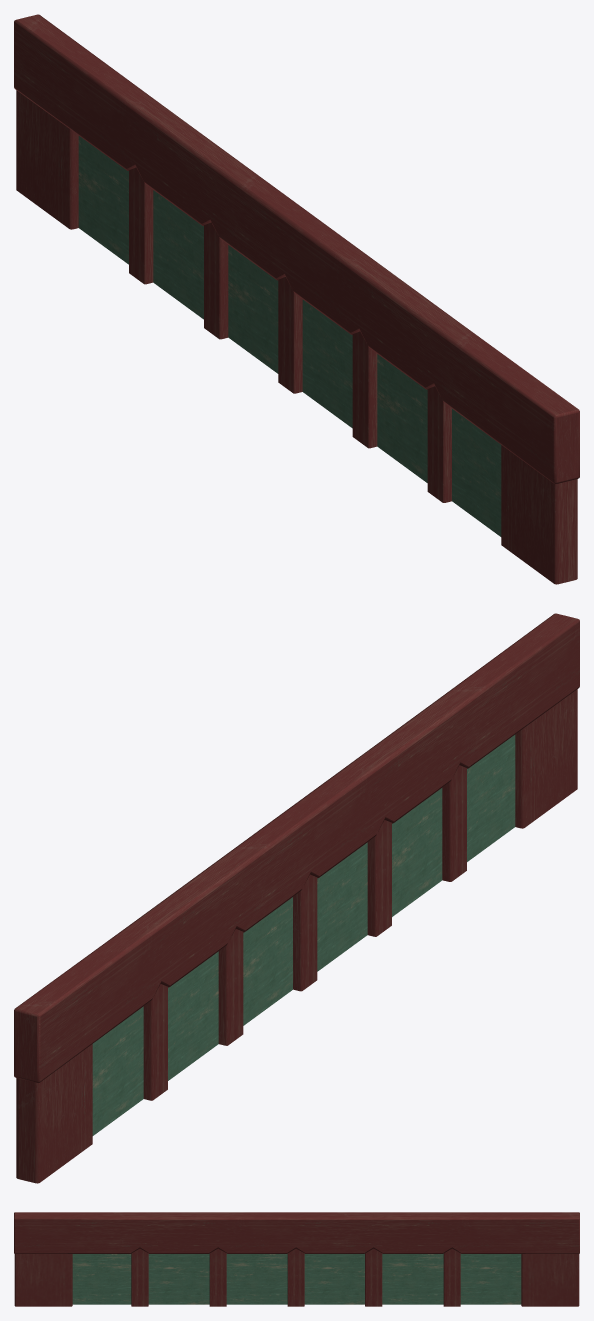
Rendered from SM_Railing04b.fbx.
The picture shows the model from 3 angles, top to bottom: view 1: azimuth 30°, elevation 25°; view 2: azimuth 150°, elevation 25°; view 3: azimuth 270°, elevation 25°; orthographic projection. The views are drawn at different scales.
Visible parts, largest first — view 1: SM_Railing04b; view 2: SM_Railing04b; view 3: SM_Railing04b.
Boxes of the visible parts, left/top/right/bottom form: SM_Railing04b: left=14, top=14, right=579, bottom=584; SM_Railing04b: left=14, top=613, right=579, bottom=1183; SM_Railing04b: left=14, top=1212, right=579, bottom=1306.
Bounding box in the file's own units: 7 × 250 × 43.26.
2 materials, 2 textured.
